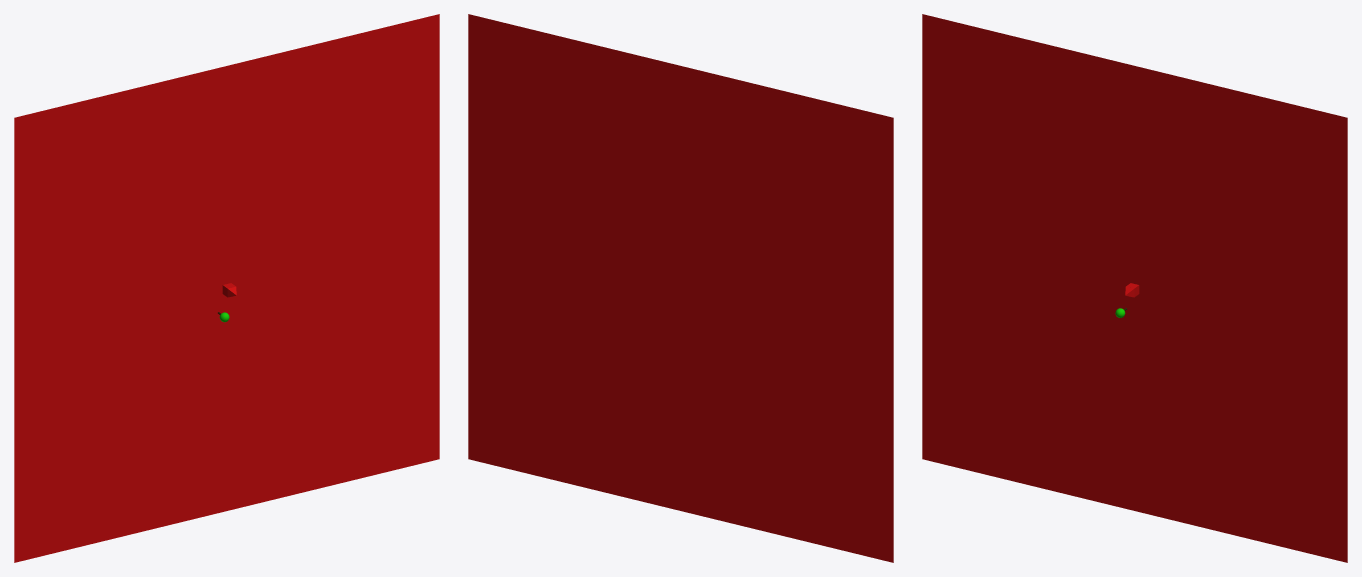
Rendered from small_scene.obj.
3 views of the same model, side by side, from view 1: azimuth 30°, elevation 25°; view 2: azimuth 150°, elevation 25°; view 3: azimuth 330°, elevation 25° (orthographic).
Parts seen in each view (by area): view 1: Floor; view 2: Floor; view 3: Floor.
Part boxes in pixels (x1,y1,x2,y2): Floor: (14,14,439,562); Floor: (468,14,893,562); Floor: (922,14,1347,562).
Size of the model in its own units: 100 by 100 by 3.99.
